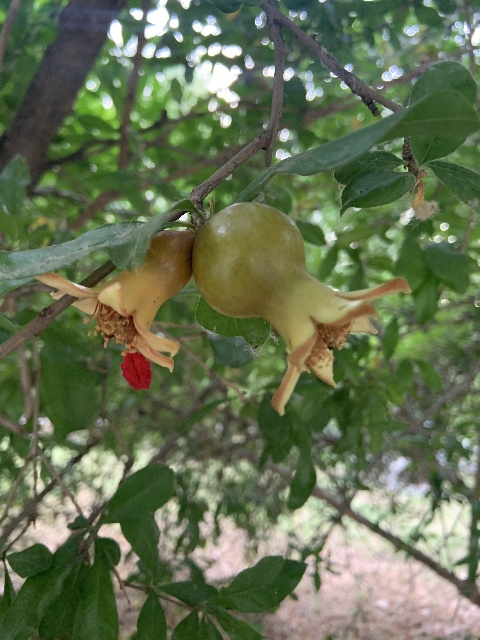early-fruit: (35, 226, 194, 392)
mid-growth: (190, 203, 409, 417)
